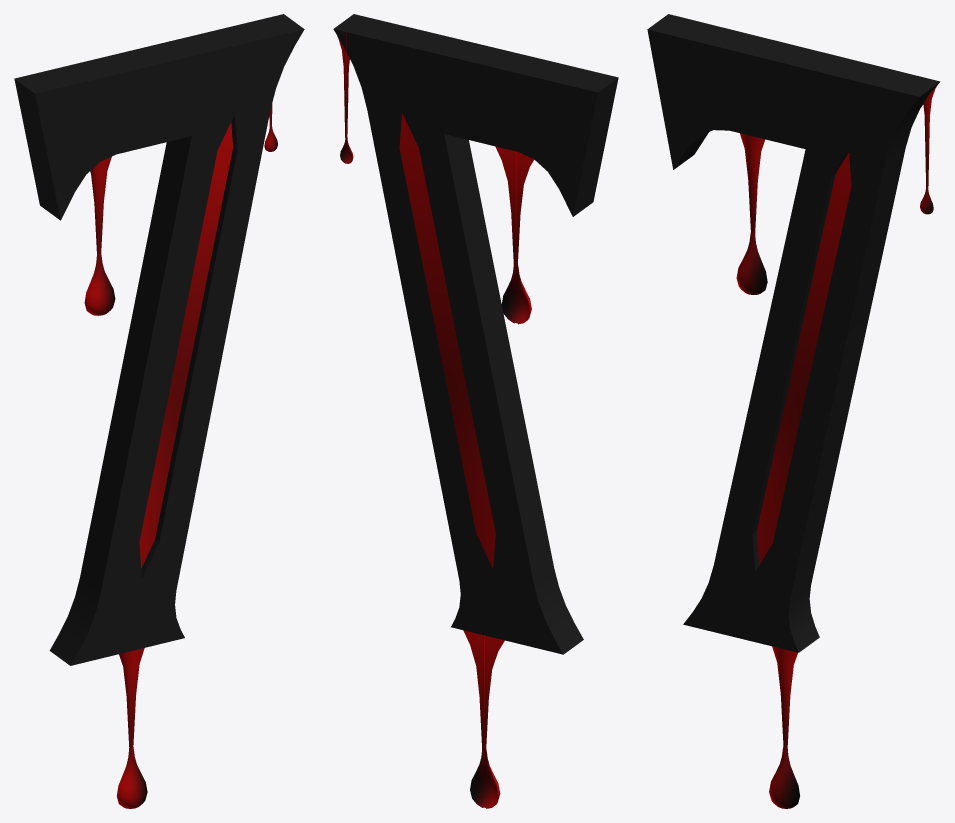
The picture shows the model from 3 angles, left to right: view 1: azimuth 30°, elevation 25°; view 2: azimuth 150°, elevation 25°; view 3: azimuth 330°, elevation 25°; orthographic projection. The views are drawn at different scales.
Parts seen in each view (by area): view 1: 7, 7_Element, Blood_450, Blood_449; view 2: 7, 7_Element, Blood_450, Blood_449, Blood_453; view 3: 7, 7_Element, Blood_450, Blood_449, Blood_453.
Boxes of the visible parts, box(x1,y1,x2,y2) form: 7: box(14, 14, 304, 665); 7_Element: box(139, 122, 233, 567); Blood_450: box(117, 648, 147, 808); Blood_449: box(84, 156, 115, 315); 7: box(333, 14, 618, 654); 7_Element: box(399, 113, 495, 568); Blood_450: box(463, 630, 504, 808); Blood_449: box(495, 146, 534, 324); Blood_453: box(337, 32, 353, 163); 7: box(647, 14, 940, 652); 7_Element: box(757, 152, 851, 564); Blood_450: box(769, 646, 799, 808); Blood_449: box(736, 133, 767, 294); Blood_453: box(920, 86, 936, 214).
Bounding box in the file's own units: 37.3 × 100 × 5.01.
Materials: 2 (1 with a texture image).
